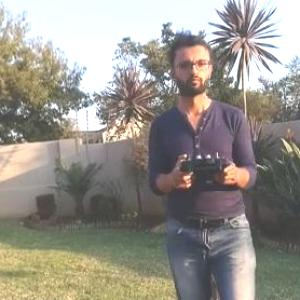follow: (148, 24, 268, 299)
